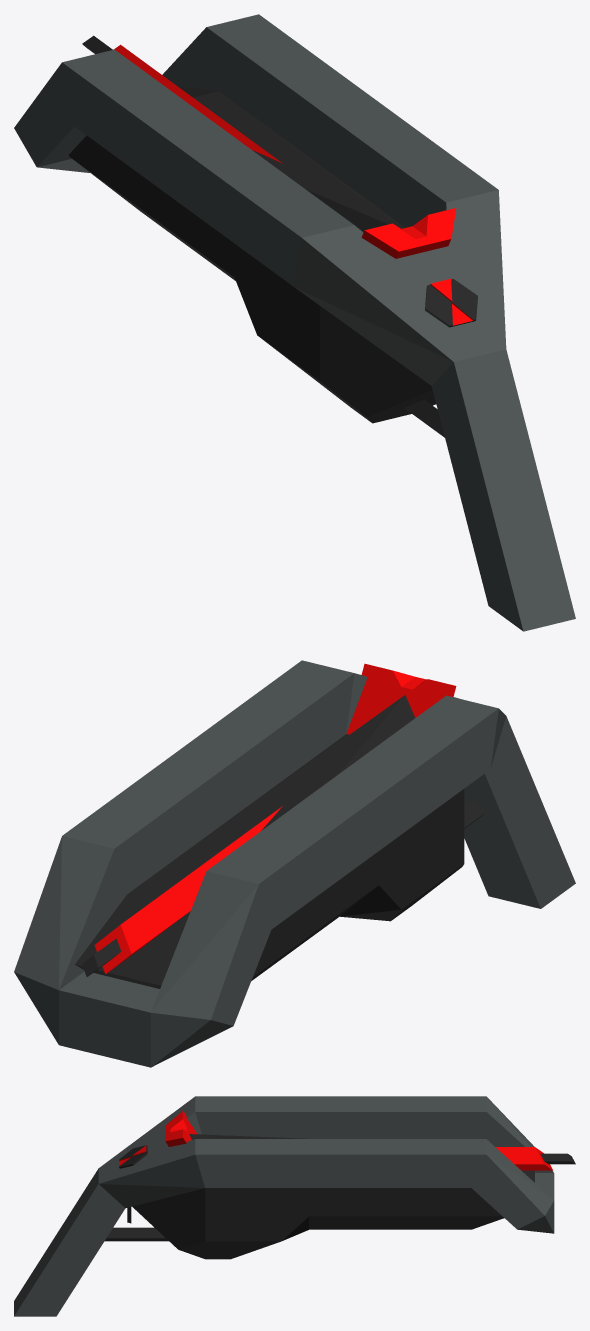
The model's file is The Gun.obj.
3 views of the same model, one above another, from view 1: azimuth 30°, elevation 25°; view 2: azimuth 150°, elevation 25°; view 3: azimuth 270°, elevation 25° (orthographic). The views are drawn at different scales.
Parts seen in each view (by area): view 1: Mesh1_Group2_Group1_Model.002, Mesh2_Uni_o_Group1_Model; view 2: Mesh1_Group2_Group1_Model.002, Mesh2_Uni_o_Group1_Model; view 3: Mesh1_Group2_Group1_Model.002, Mesh2_Uni_o_Group1_Model.
Boxes of the visible parts, x1=… form: Mesh1_Group2_Group1_Model.002: x1=14, y1=14, x2=575, y2=631; Mesh2_Uni_o_Group1_Model: x1=69, y1=35, x2=456, y2=437; Mesh1_Group2_Group1_Model.002: x1=14, y1=660, x2=575, y2=1067; Mesh2_Uni_o_Group1_Model: x1=75, y1=663, x2=485, y2=988; Mesh1_Group2_Group1_Model.002: x1=14, y1=1096, x2=554, y2=1316; Mesh2_Uni_o_Group1_Model: x1=105, y1=1111, x2=575, y2=1259.
Bounding box in the file's own units: 0.15 × 0.2215 × 0.6108.
